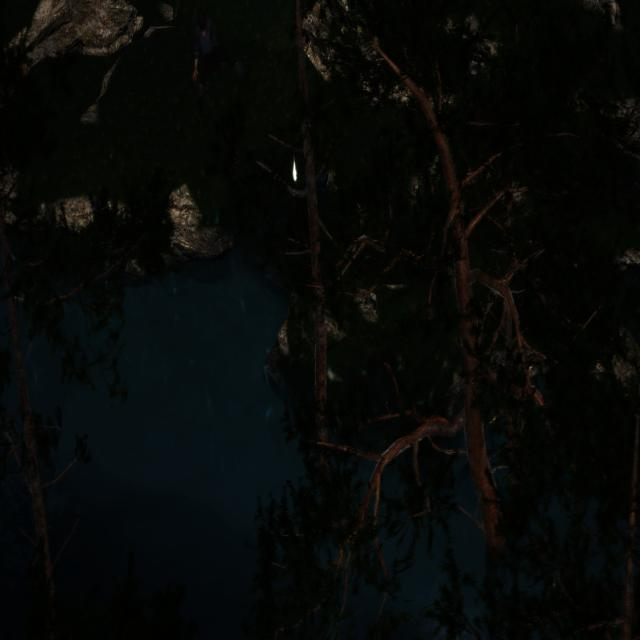Human: (189, 13, 251, 112)
